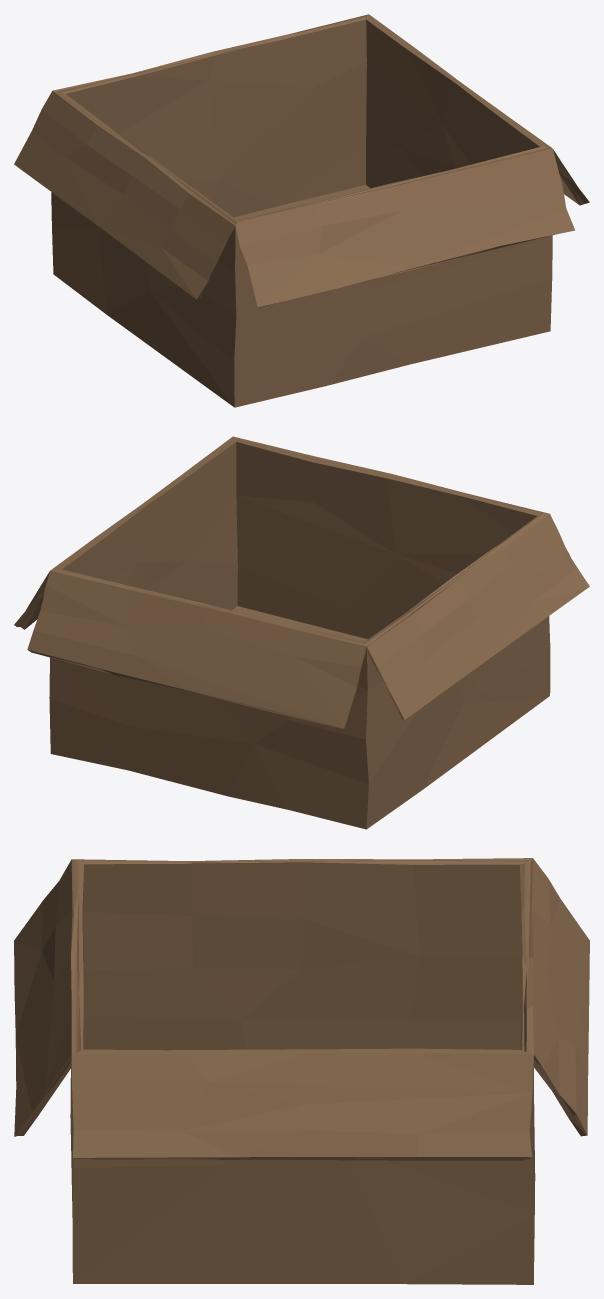
File: generic_box.glb
3 views of the same model, one above another, from view 1: azimuth 30°, elevation 25°; view 2: azimuth 150°, elevation 25°; view 3: azimuth 270°, elevation 25° (orthographic). The views are drawn at different scales.
Visible parts, largest first — view 1: Box; view 2: Box; view 3: Box.
Boxes of the visible parts, x1=… form: Box: x1=14, y1=14, x2=589, y2=407; Box: x1=14, y1=436, x2=589, y2=829; Box: x1=14, y1=858, x2=589, y2=1284.
Size of the model in its own units: 1.99 by 0.8923 by 2.
